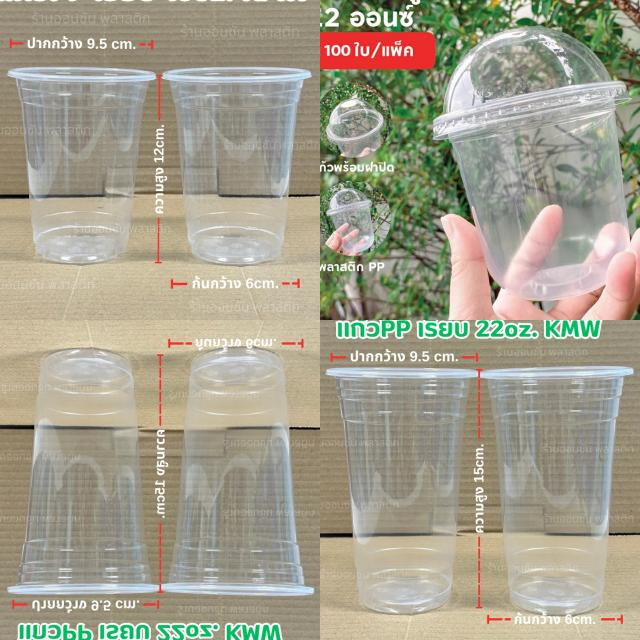Single-Use-Plastic: (434, 26, 629, 300), (162, 348, 314, 596), (482, 366, 632, 615), (326, 368, 476, 613), (8, 349, 156, 594), (164, 68, 311, 264), (9, 68, 155, 263), (326, 98, 384, 157), (326, 189, 374, 253)
